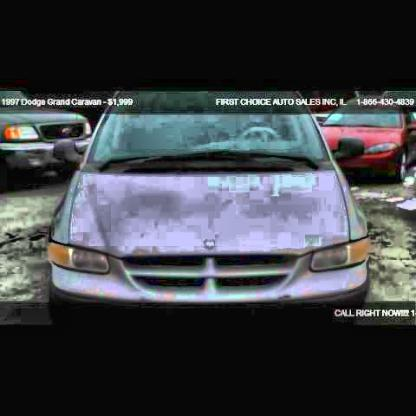Dodge Caravan Minivan 1997: (47, 92, 373, 307)
